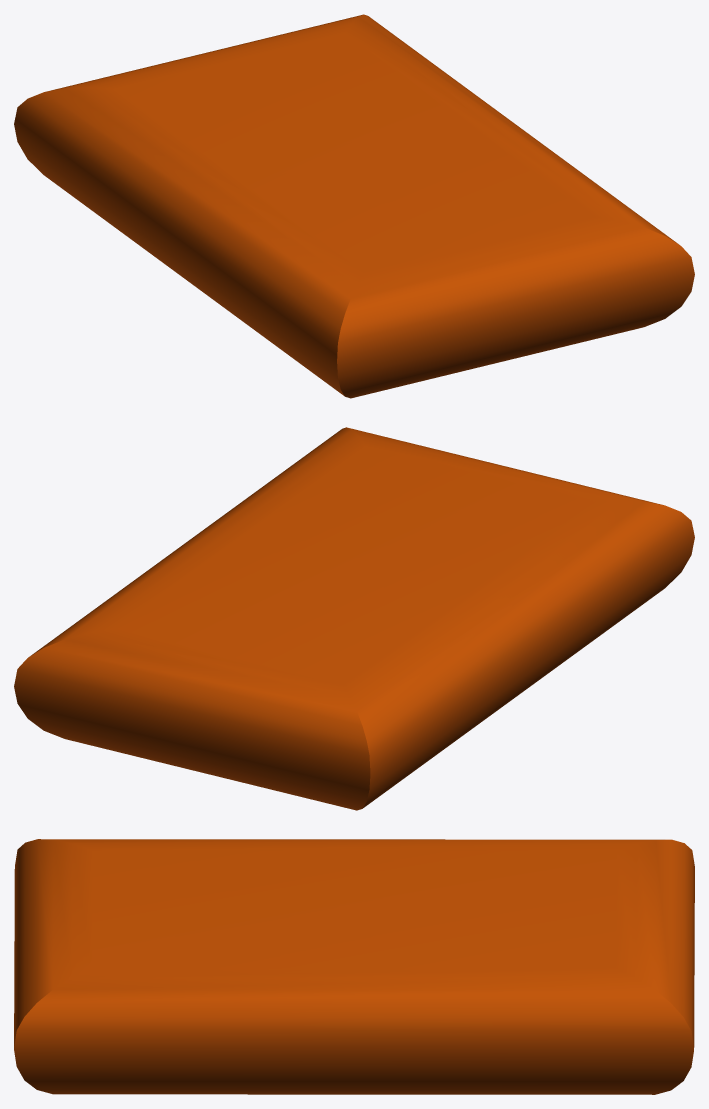
Rendered from Pillow.fbx.
The picture shows the model from 3 angles, top to bottom: view 1: azimuth 30°, elevation 25°; view 2: azimuth 150°, elevation 25°; view 3: azimuth 270°, elevation 25°; orthographic projection. The views are drawn at different scales.
Visible parts, largest first — view 1: Pillow; view 2: Pillow; view 3: Pillow.
Boxes of the visible parts, box(x1,y1,x2,y2) form: Pillow: box(14, 14, 694, 398); Pillow: box(14, 427, 694, 810); Pillow: box(14, 839, 694, 1094).
Bounding box in the file's own units: 0.3762 × 0.5895 × 0.1141.
